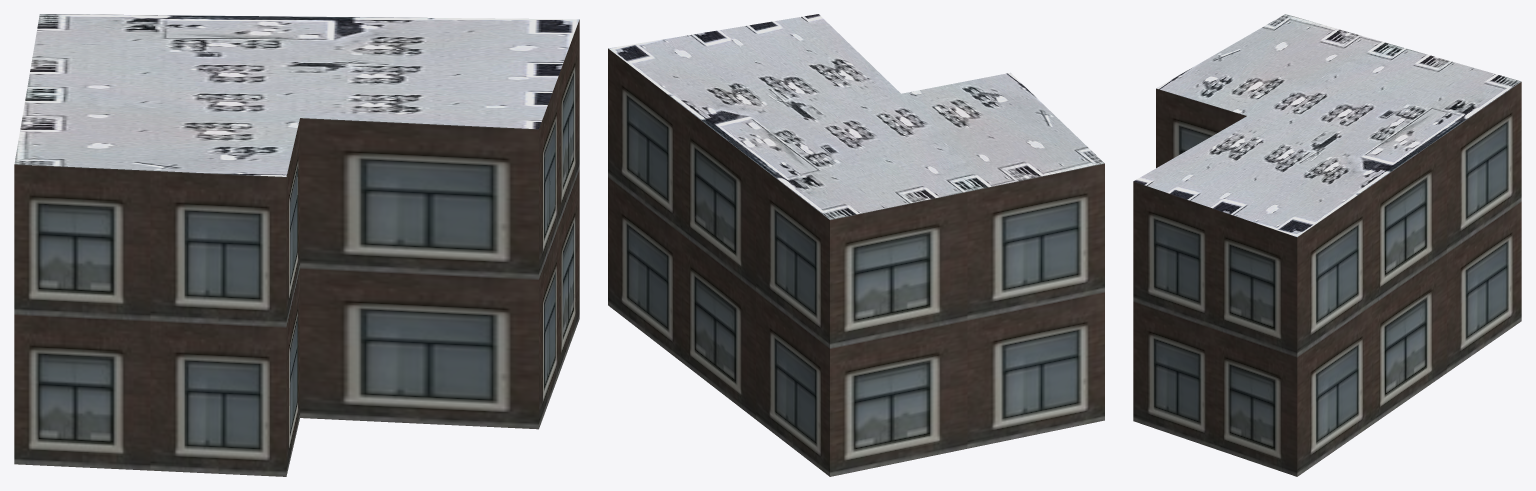
Rendered from ResTex__4920.fbx.
3 views of the same model, side by side, from view 1: azimuth 30°, elevation 25°; view 2: azimuth 150°, elevation 25°; view 3: azimuth 270°, elevation 25° (orthographic). The views are drawn at different scales.
Visible parts, largest first — view 1: CityEngineMaterial_16_m, CityEngineMaterial_15_m; view 2: CityEngineMaterial_16_m, CityEngineMaterial_15_m; view 3: CityEngineMaterial_16_m, CityEngineMaterial_15_m.
Boxes of the visible parts, x1=… form: CityEngineMaterial_16_m: x1=14, y1=19, x2=579, y2=476; CityEngineMaterial_15_m: x1=14, y1=14, x2=579, y2=176; CityEngineMaterial_16_m: x1=608, y1=48, x2=1104, y2=476; CityEngineMaterial_15_m: x1=608, y1=14, x2=1104, y2=219; CityEngineMaterial_16_m: x1=1133, y1=82, x2=1521, y2=476; CityEngineMaterial_15_m: x1=1133, y1=14, x2=1521, y2=236.
Bounding box in the file's own units: 11.98 × 6 × 8.81.
Materials: 2 (2 with a texture image).
